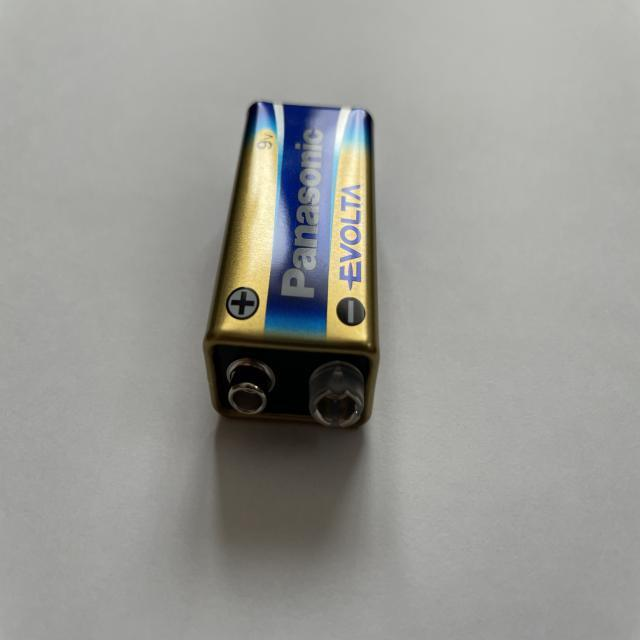9V: (202, 99, 382, 431)
